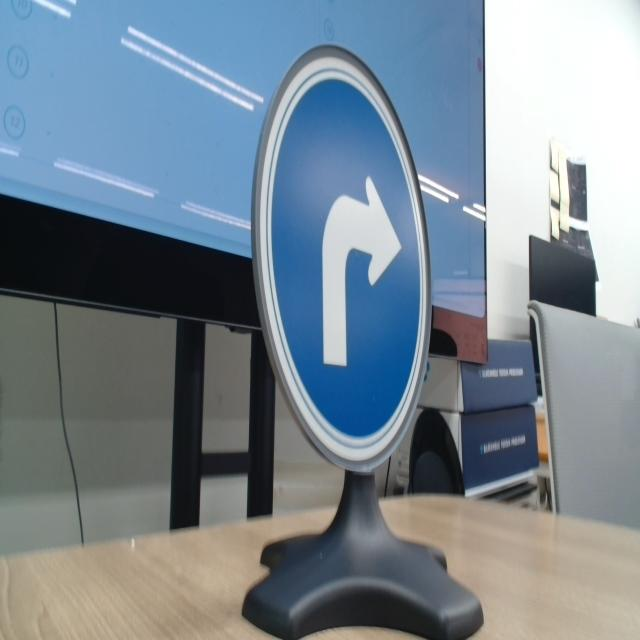right_dierection: (244, 43, 434, 472)
